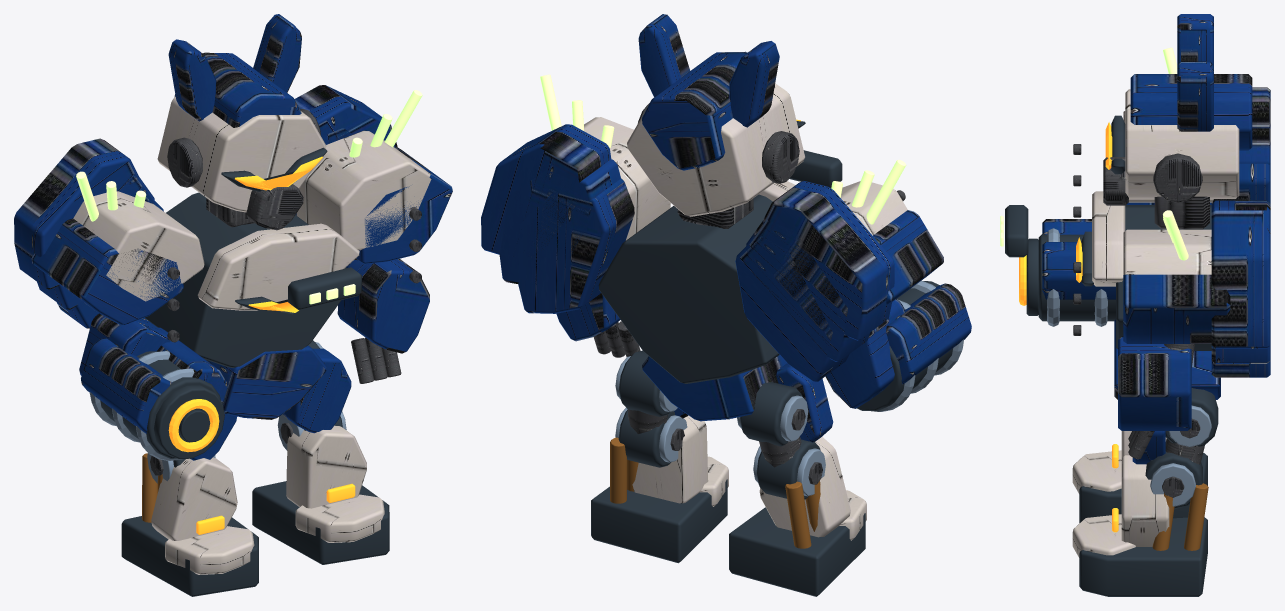
The model's file is sector_02_0.glb.
3 renders of one model, left to right at view 1: azimuth 30°, elevation 25°; view 2: azimuth 150°, elevation 25°; view 3: azimuth 270°, elevation 25°, orthographic. The views are drawn at different scales.
Visible parts, largest first — view 1: Navy crown, Cuirass yoke, Angular scout torso, Greave armor, Greave armor.001, Neck actuator, Servo housing.004, Servo housing.001, Tapered thigh shield.001, Luminous sap channel, Recessed V optic, Bearing ring (+1 smaller); view 2: Navy crown, Angular scout torso, Cuirass yoke, Servo housing.001, Servo housing.004, Greave armor.001, Neck actuator, Greave armor, Luminous sap channel, Tapered thigh shield, Bearing ring.002, Calf piston (+5 smaller); view 3: Navy crown, Cuirass yoke, Servo housing.004, Angular scout torso, Neck actuator, Greave armor.001, Greave armor, Bearing ring.008, Calf piston.002, Servo housing.001, Hub.008, Bearing ring (+3 smaller).
Boxes of the visible parts, x1,y1,x2,y2 form: Navy crown: (14, 14, 452, 433); Cuirass yoke: (73, 96, 431, 310); Angular scout torso: (89, 147, 361, 458); Greave armor: (151, 457, 254, 574); Greave armor.001: (286, 425, 384, 542); Neck actuator: (167, 109, 421, 383); Servo housing.004: (252, 340, 389, 564); Servo housing.001: (121, 459, 258, 596); Tapered thigh shield.001: (283, 348, 351, 433); Luminous sap channel: (76, 90, 422, 304); Recessed V optic: (168, 156, 322, 452); Bearing ring: (90, 351, 194, 460); Navy crown: (481, 14, 971, 421); Angular scout torso: (598, 121, 953, 411); Cuirass yoke: (584, 83, 907, 240); Servo housing.001: (729, 382, 865, 596); Servo housing.004: (591, 350, 727, 563); Greave armor.001: (632, 415, 728, 506); Neck actuator: (593, 103, 905, 357); Greave armor: (759, 437, 866, 540); Luminous sap channel: (540, 74, 906, 224); Tapered thigh shield: (776, 363, 833, 442); Bearing ring.002: (737, 395, 825, 496); Calf piston: (785, 481, 820, 548); Navy crown: (1042, 14, 1270, 430); Cuirass yoke: (1092, 89, 1239, 286); Servo housing.004: (1079, 388, 1218, 596); Angular scout torso: (1005, 115, 1211, 350); Neck actuator: (1073, 144, 1209, 459); Greave armor.001: (1072, 454, 1169, 557); Greave armor: (1072, 431, 1166, 493); Bearing ring.008: (1150, 405, 1211, 506); Calf piston.002: (1152, 483, 1208, 550); Servo housing.001: (1079, 453, 1207, 522); Hub.008: (1162, 418, 1204, 497); Bearing ring: (1047, 228, 1107, 326).
Bounding box in the file's own units: 1.17 × 1.52 × 0.7345.
Materials: 8 (3 with a texture image).
